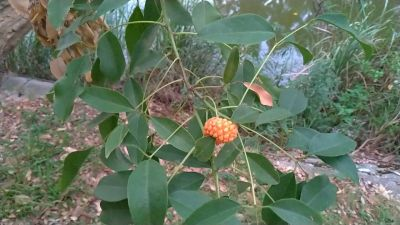eggs: (200, 113, 240, 145)
